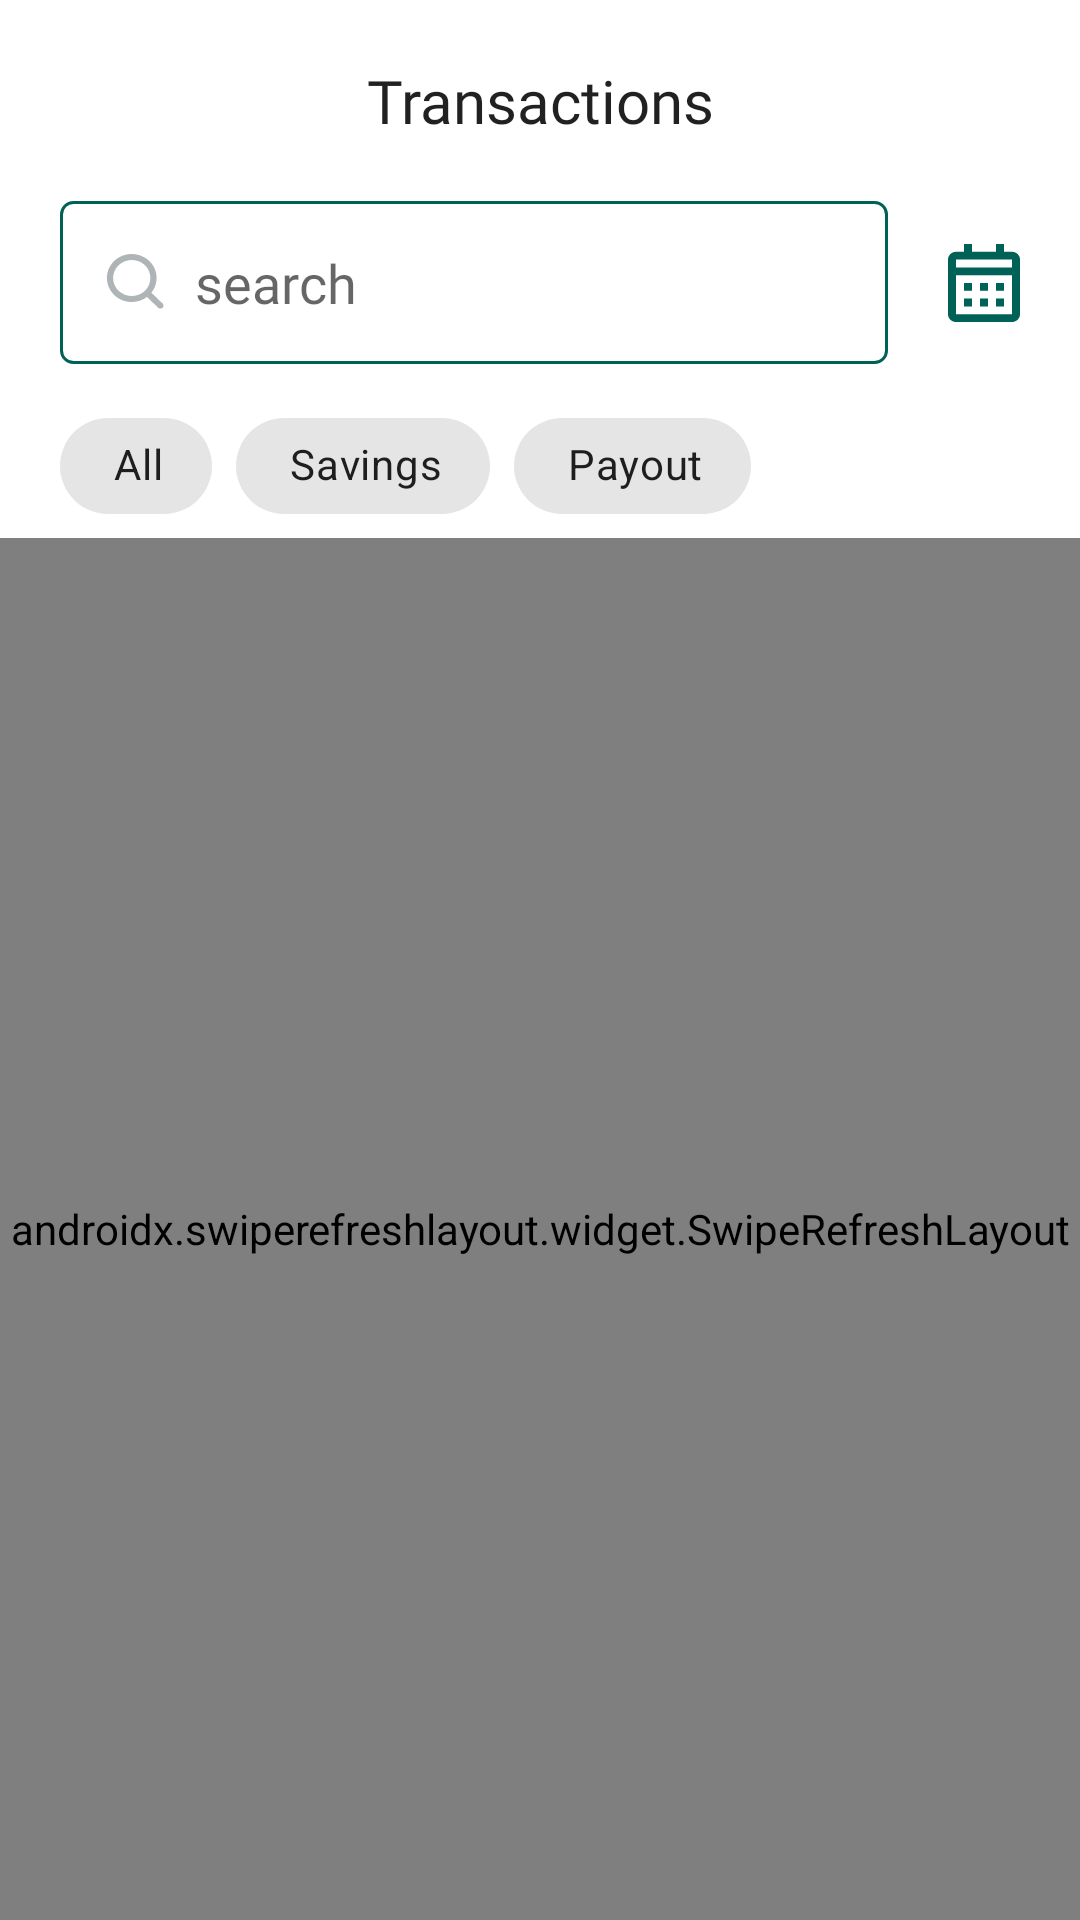

Point at icon controls on the screen. Image size 1080 × 1920, points as [x,y].
calender: [984,283]
